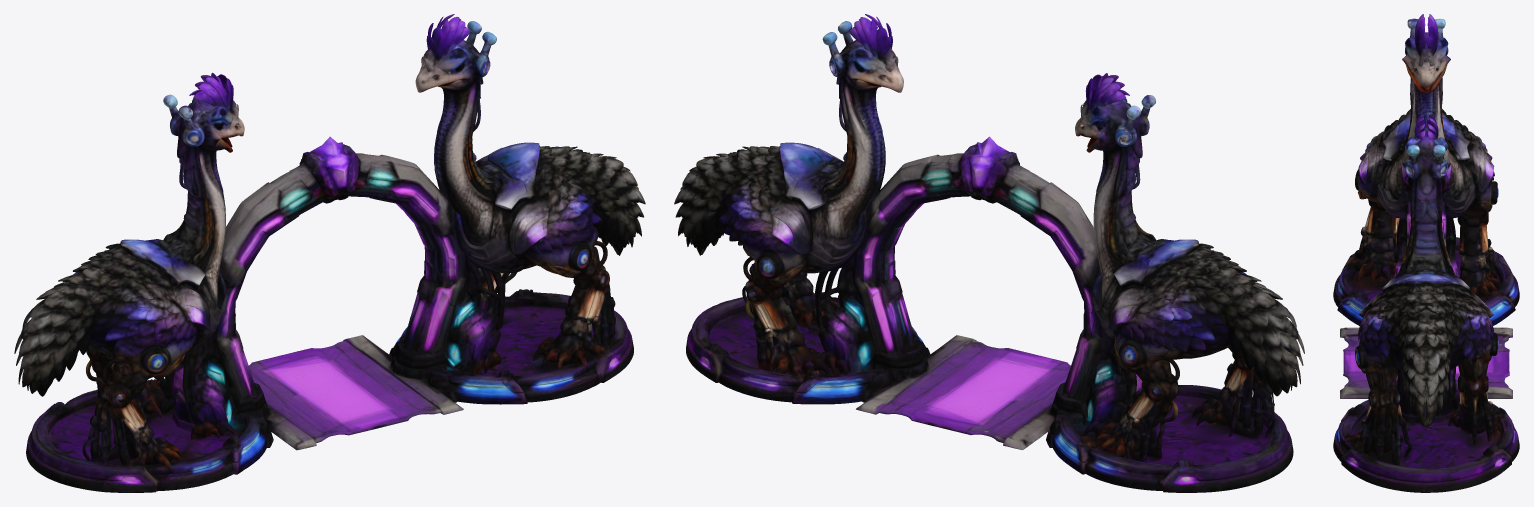
Rendered from nostriches_entrance.glb.
3 renders of one model, left to right at view 1: azimuth 30°, elevation 25°; view 2: azimuth 150°, elevation 25°; view 3: azimuth 270°, elevation 25°, orthographic. The views are drawn at different scales.
Parts seen in each view (by area): view 1: material; view 2: material; view 3: material.
Boxes of the visible parts, left/top/right/bottom form: material: left=14, top=14, right=645, bottom=492; material: left=674, top=14, right=1304, bottom=492; material: left=1333, top=14, right=1519, bottom=492.
Size of the model in its own units: 1.11 by 0.6035 by 0.3346.
1 material, 1 textured.
